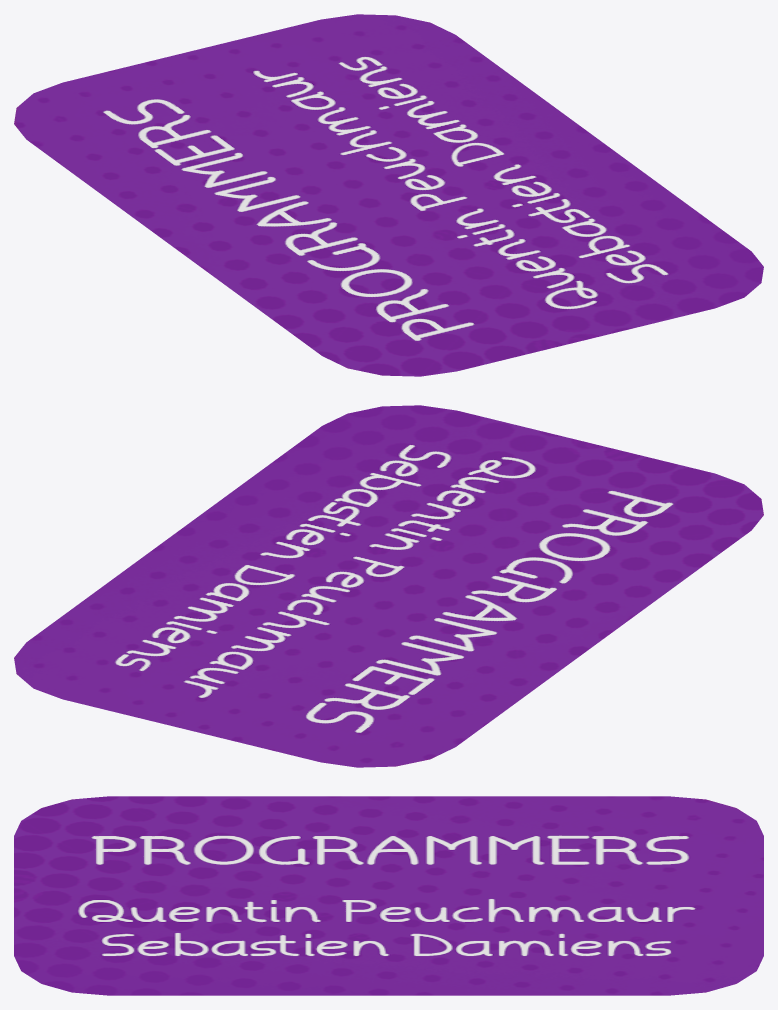
Rendered from Asset_CarteCredit_01.fbx.
3 views of the same model, one above another, from view 1: azimuth 30°, elevation 25°; view 2: azimuth 150°, elevation 25°; view 3: azimuth 270°, elevation 25° (orthographic). The views are drawn at different scales.
Parts seen in each view (by area): view 1: Asset_CarteCredit_01; view 2: Asset_CarteCredit_01; view 3: Asset_CarteCredit_01.
Part boxes in pixels (left/top/right/bottom): Asset_CarteCredit_01: left=14, top=14, right=763, bottom=376; Asset_CarteCredit_01: left=14, top=405, right=763, bottom=767; Asset_CarteCredit_01: left=14, top=796, right=763, bottom=995.
Bounding box in the file's own units: 236 × 1.53e-05 × 376.
